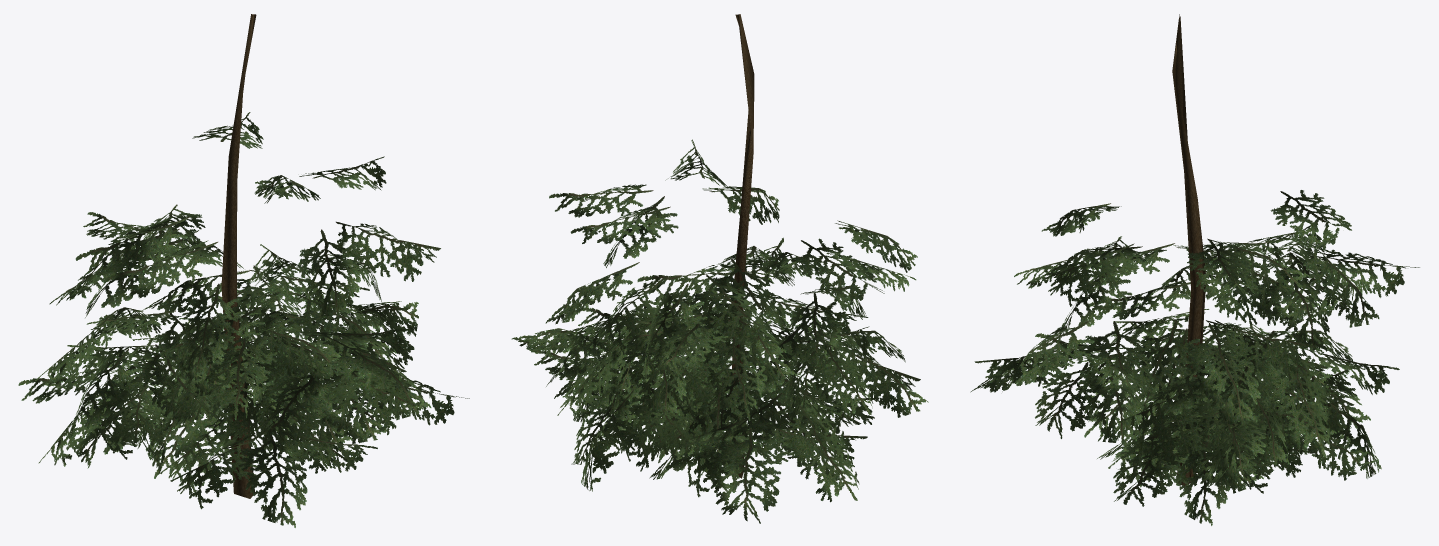
The model's file is koknar_genc_lod2.glb.
3 views of the same model, side by side, from view 1: azimuth 30°, elevation 25°; view 2: azimuth 150°, elevation 25°; view 3: azimuth 270°, elevation 25° (orthographic). The views are drawn at different scales.
Parts seen in each view (by area): view 1: koknar_genc_lod2; view 2: koknar_genc_lod2; view 3: koknar_genc_lod2.
Boxes of the visible parts, x1,y1,x2,y2 form: koknar_genc_lod2: [18, 14, 469, 527]; koknar_genc_lod2: [511, 14, 928, 523]; koknar_genc_lod2: [970, 14, 1419, 525].
Bounding box in the file's own units: 3.07 × 3.51 × 3.12.
Materials: 2 (2 with a texture image).
